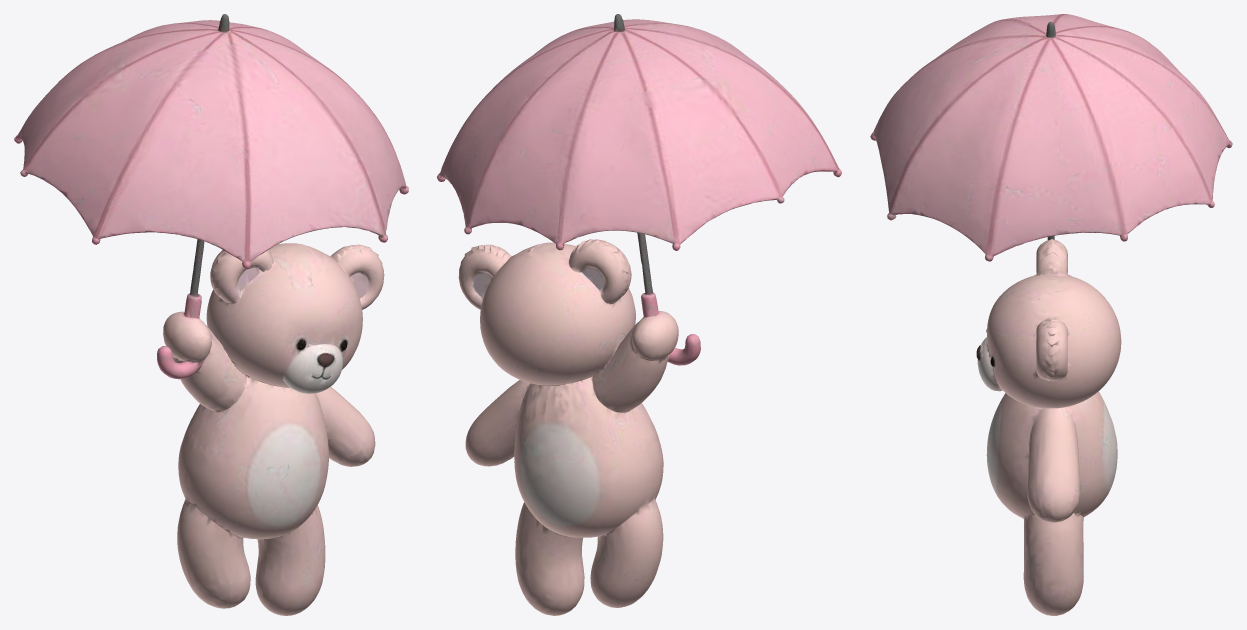
3 views of the same model, side by side, from view 1: azimuth 30°, elevation 25°; view 2: azimuth 150°, elevation 25°; view 3: azimuth 270°, elevation 25° (orthographic). The views are drawn at different scales.
Bounding box in the file's own units: 1.11 × 1.9 × 1.11.
Materials: 1 (1 with a texture image).
